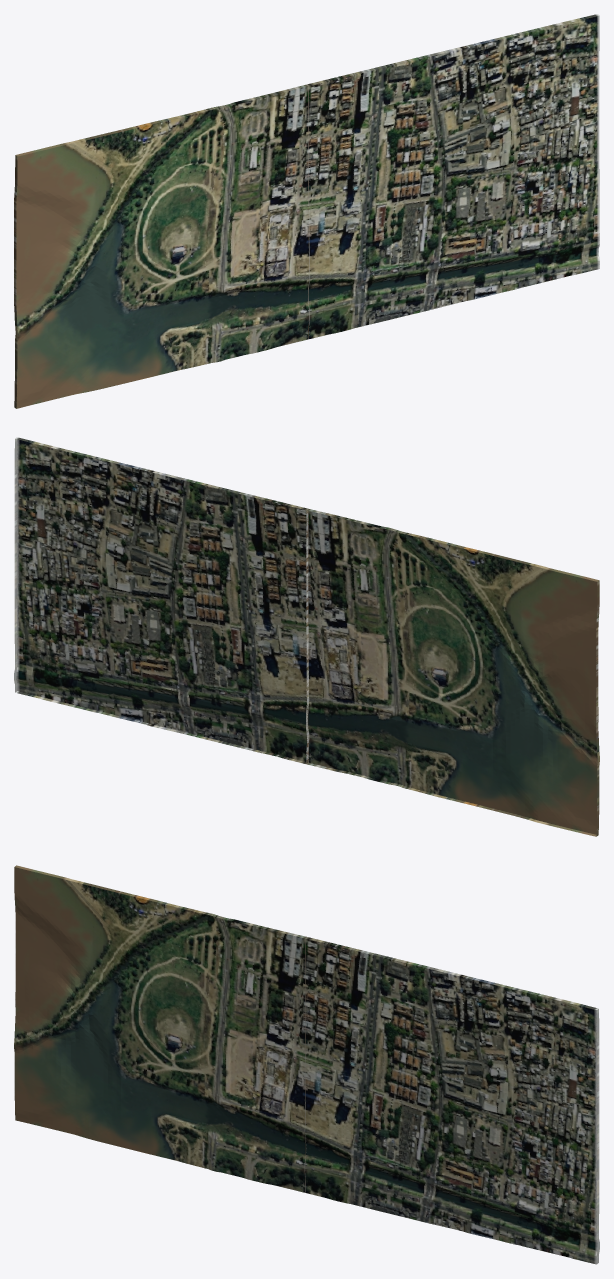
Rendered from novo3.dae.
The picture shows the model from 3 angles, top to bottom: view 1: azimuth 30°, elevation 25°; view 2: azimuth 150°, elevation 25°; view 3: azimuth 330°, elevation 25°; orthographic projection.
Parts seen in each view (by area): view 1: node; view 2: node; view 3: node.
Boxes of the visible parts, left/top/right/bottom form: node: left=14, top=14, right=599, bottom=408; node: left=14, top=437, right=599, bottom=836; node: left=14, top=865, right=599, bottom=1264.
Size of the model in its own units: 1341 by 558 by 19.47.
2 materials, 2 textured.
